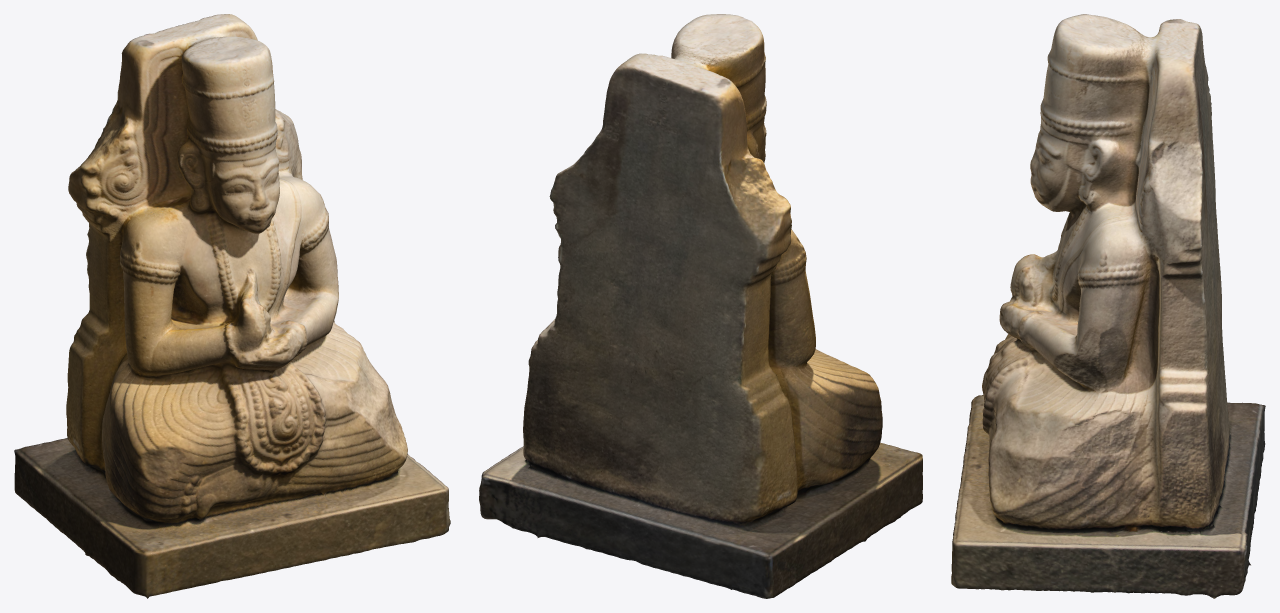
The model's file is tuongshiva.gltf.
3 views of the same model, side by side, from view 1: azimuth 30°, elevation 25°; view 2: azimuth 150°, elevation 25°; view 3: azimuth 270°, elevation 25° (orthographic). The views are drawn at different scales.
Visible parts, largest first — view 1: TuongShiva_SeamsColor; view 2: TuongShiva_SeamsColor; view 3: TuongShiva_SeamsColor.
Part boxes in pixels (x1,y1,x2,y2): TuongShiva_SeamsColor: (14, 14, 450, 598); TuongShiva_SeamsColor: (479, 14, 922, 598); TuongShiva_SeamsColor: (951, 14, 1265, 598).
Size of the model in its own units: 35.05 by 50.07 by 29.3.
Materials: 1 (1 with a texture image).
